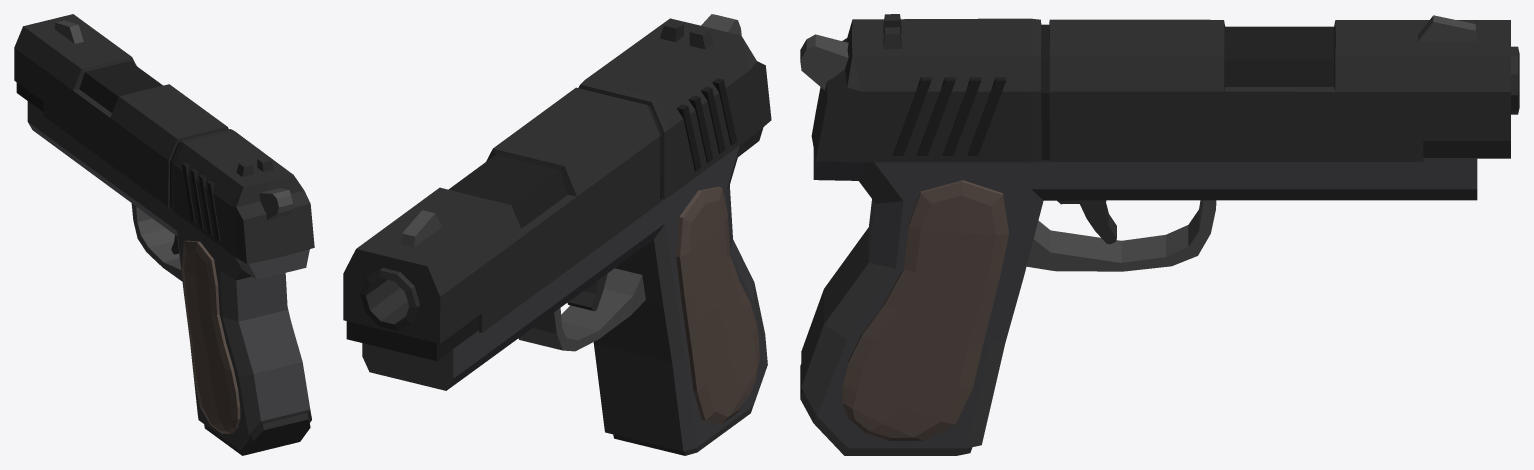
File: colt.glb
The picture shows the model from 3 angles, left to right: view 1: azimuth 30°, elevation 25°; view 2: azimuth 150°, elevation 25°; view 3: azimuth 270°, elevation 25°; orthographic projection. The views are drawn at different scales.
Visible parts, largest first — view 1: Pistol_1; view 2: Pistol_1; view 3: Pistol_1.
Boxes of the visible parts, x1,y1,x2,y2 form: Pistol_1: (14,14,314,455); Pistol_1: (343,14,771,455); Pistol_1: (800,14,1519,455).
Bounding box in the file's own units: 0.0533 × 0.1916 × 0.3002.
1 material, 1 textured.
